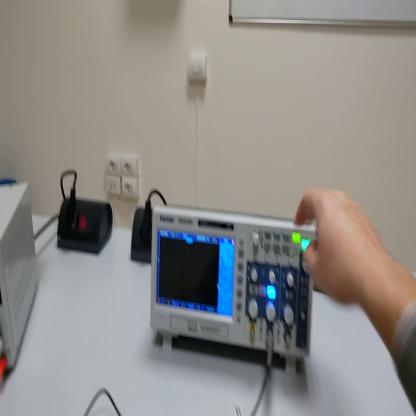hand: (294, 187, 385, 310)
oscilloscope: (152, 210, 319, 381)
power supply: (3, 186, 40, 378)
socket: (58, 195, 115, 254), (132, 206, 152, 264)
